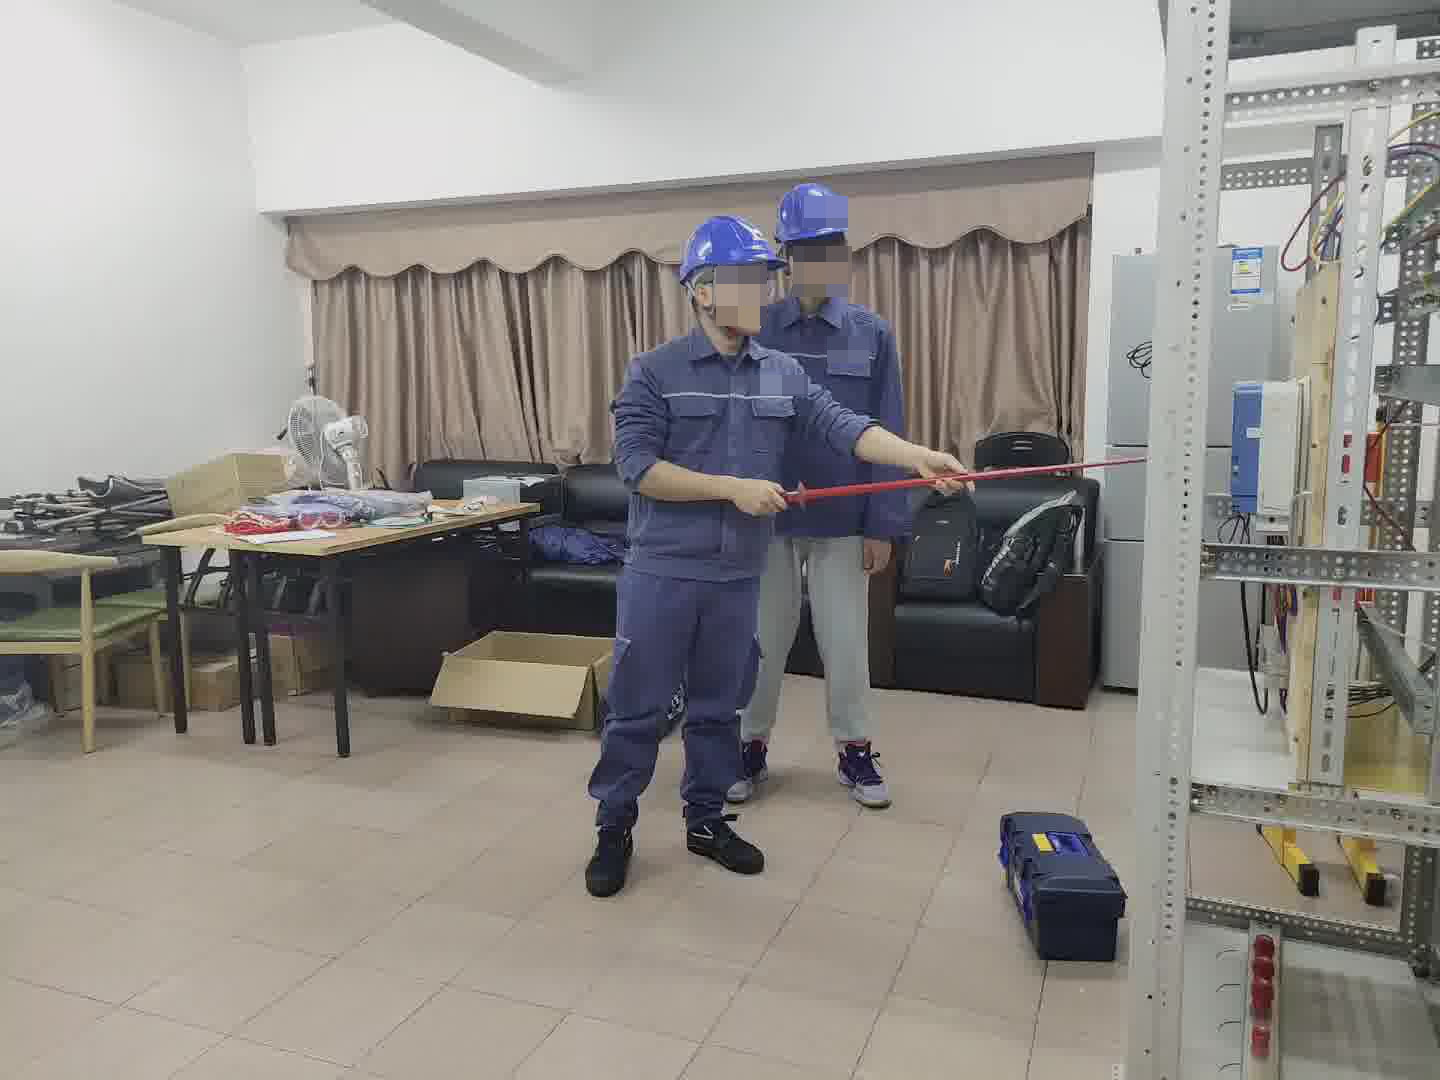downcloth: (761, 536, 865, 744)
downsuit: (585, 604, 762, 838)
halt: (675, 215, 780, 348), (776, 181, 853, 293)
hand: (735, 479, 786, 519), (929, 454, 974, 494), (865, 539, 896, 577)
inear: (685, 270, 731, 328)
person: (581, 212, 790, 901), (747, 168, 909, 790)
testrod: (786, 448, 1152, 515)
upsuit: (604, 315, 883, 565), (772, 298, 910, 532)
wronghold: (780, 442, 985, 514)
wrongtop: (816, 409, 976, 494), (615, 446, 788, 521)
